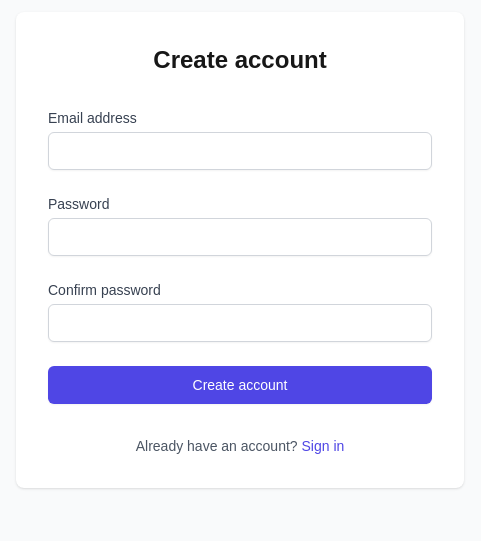
Test: RegisterPage › shows the duplicate-email error message on a 409 response
Type "alice@example.com" into the field labelled "Email address" at (240, 151), box [48,132,432,170]
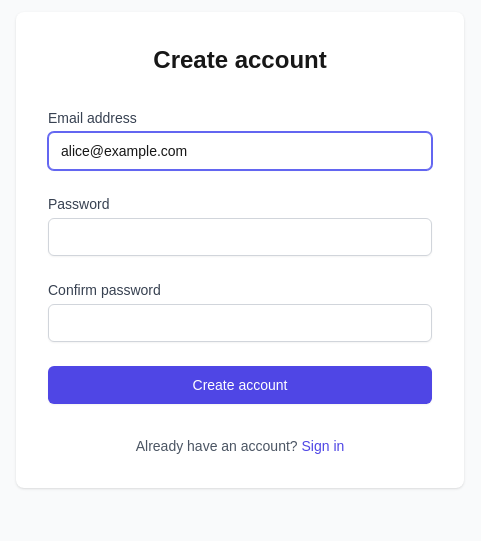
Type "securepass" into the password field labelled "Password" at (240, 237), box [48,218,432,256]
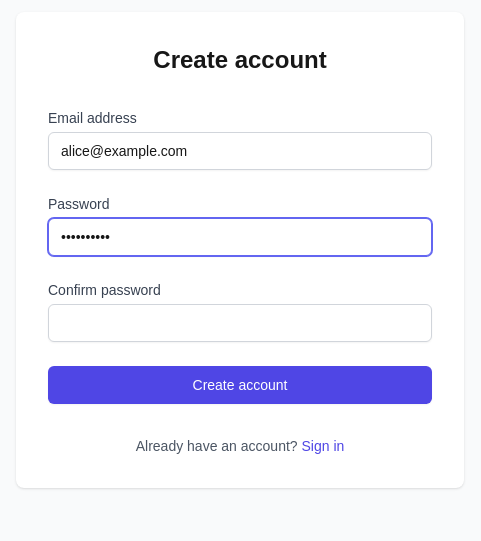
Type "securepass" into the password field labelled "Confirm password" at (240, 323), box [48,304,432,342]
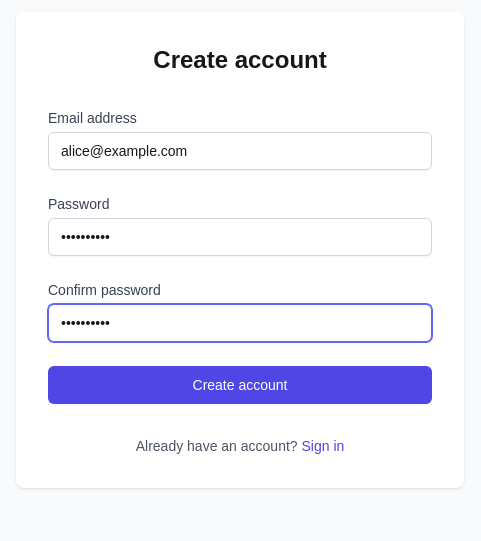
Click the button "Create account" at (240, 385), box [48,366,432,404]
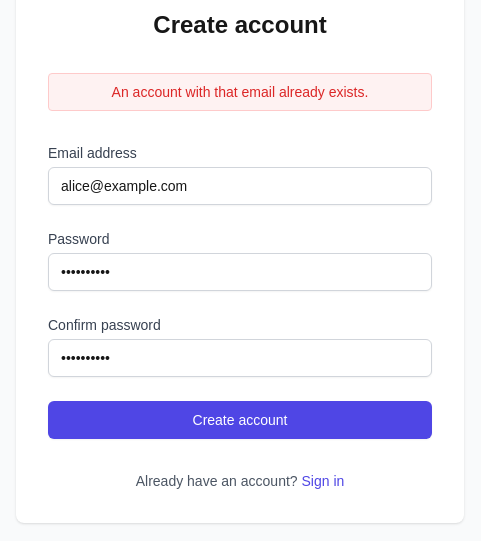
Expected: the text "An account with that email already exists." is shown, [48,73,432,111]
